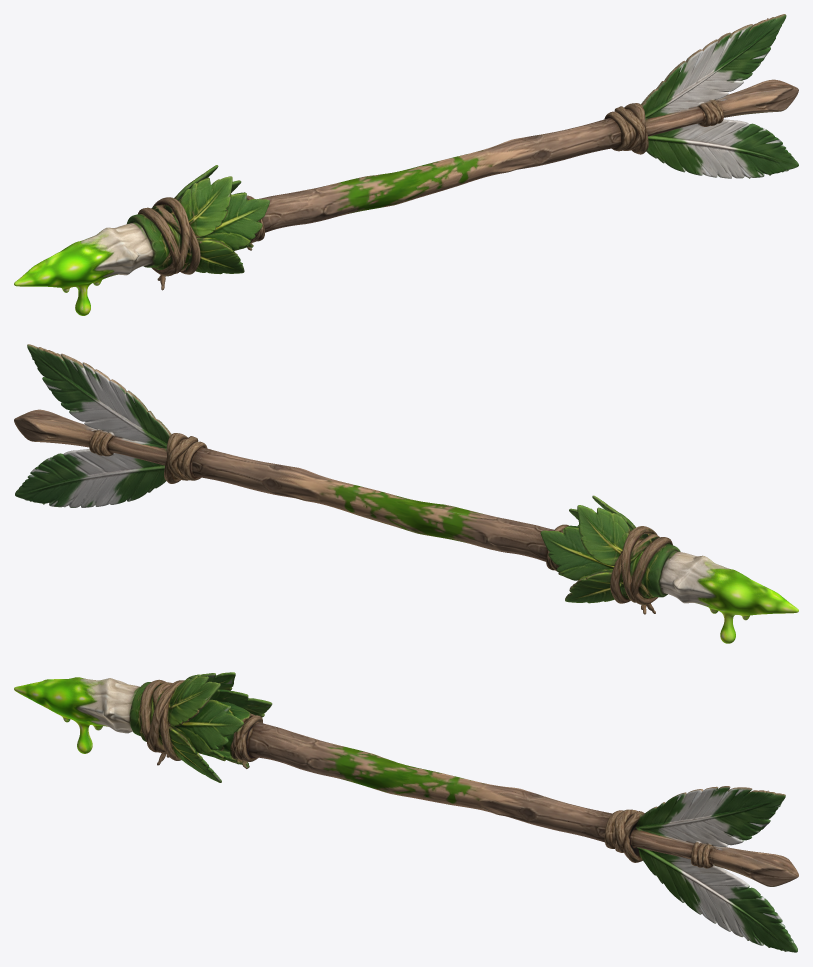
File: Betaeubungspfeil.glb
3 views of the same model, one above another, from view 1: azimuth 30°, elevation 25°; view 2: azimuth 150°, elevation 25°; view 3: azimuth 330°, elevation 25° (orthographic).
Size of the model in its own units: 1.9 by 0.3644 by 0.1747.
Materials: 1 (1 with a texture image).
